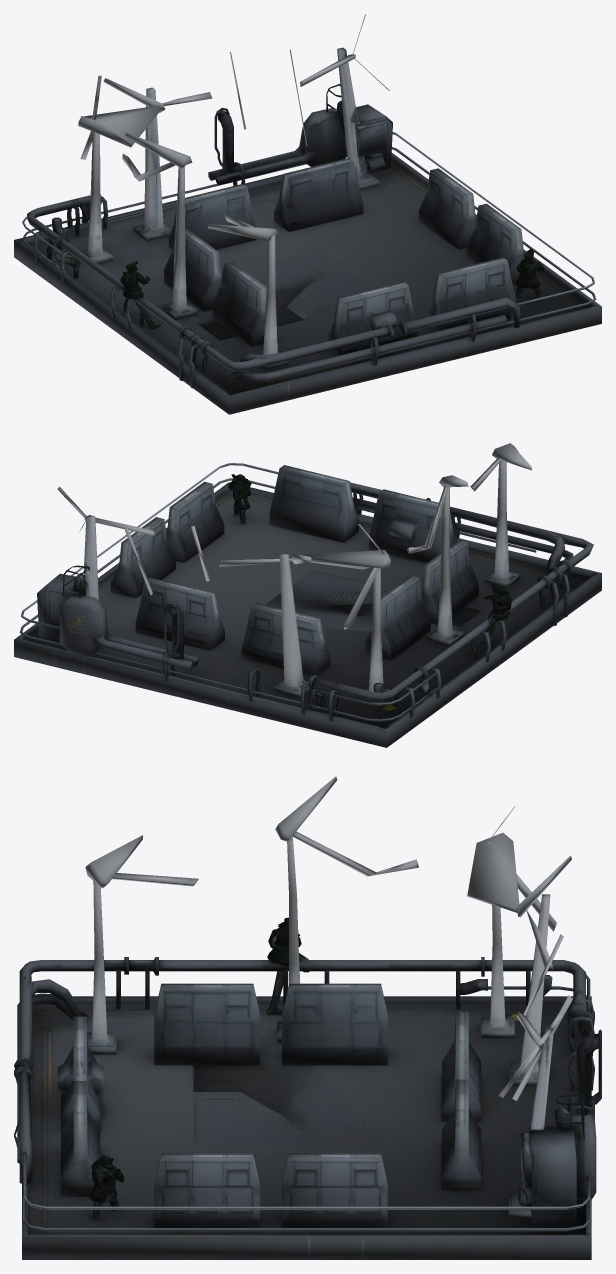
File: cqc-tempest-storm-v1.glb
3 renders of one model, top to bottom at view 1: azimuth 30°, elevation 25°; view 2: azimuth 150°, elevation 25°; view 3: azimuth 270°, elevation 25°, orthographic. The views are drawn at different scales.
Visible parts, largest first — view 1: cqc-tempest-storm-v1; view 2: cqc-tempest-storm-v1; view 3: cqc-tempest-storm-v1.
Boxes of the visible parts, x1,y1,x2,y2 form: cqc-tempest-storm-v1: (14,14,601,414); cqc-tempest-storm-v1: (14,443,601,747); cqc-tempest-storm-v1: (14,776,601,1259).
Bounding box in the file's own units: 189 × 90.35 × 190.
Materials: 1 (1 with a texture image).
